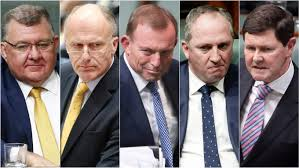white_male: (122, 3, 178, 84)
